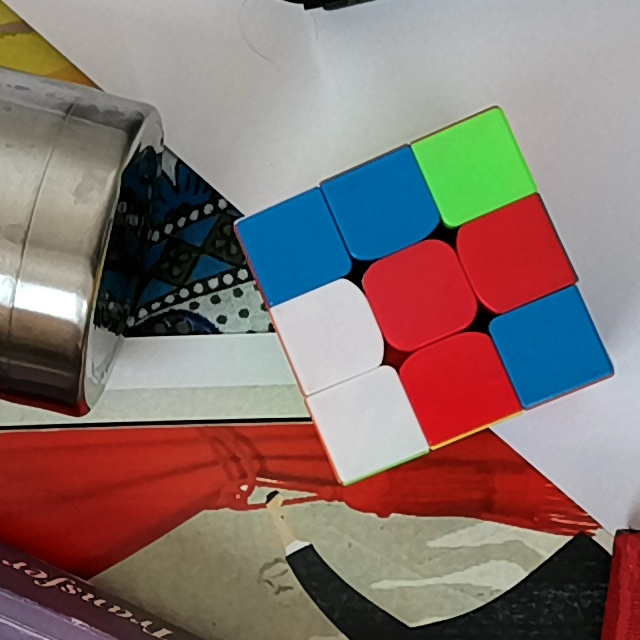tile: (421, 350, 493, 420), (295, 298, 366, 367), (513, 314, 583, 383), (381, 262, 453, 328), (335, 387, 404, 455), (482, 217, 549, 287), (346, 173, 418, 238), (440, 134, 510, 200), (262, 214, 327, 278)
